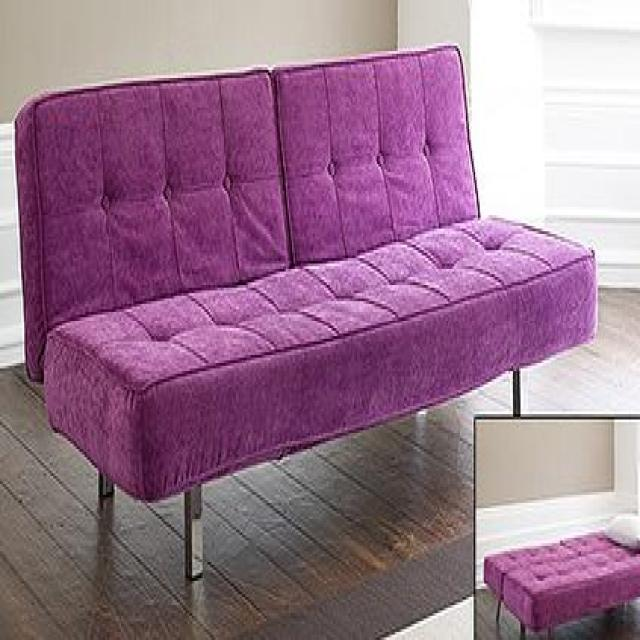sofa: (14, 39, 596, 584)
